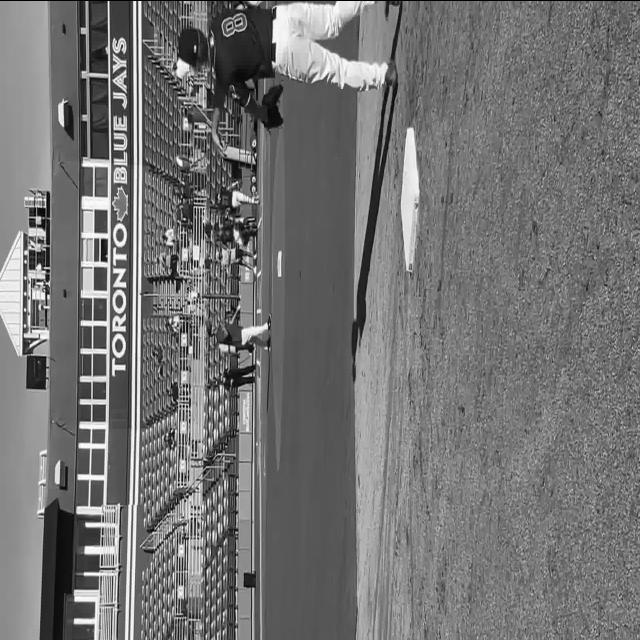base: (402, 120, 418, 267)
baseball_glove: (260, 84, 284, 132)
shoe: (385, 60, 397, 88), (268, 313, 272, 330), (267, 335, 271, 351)
